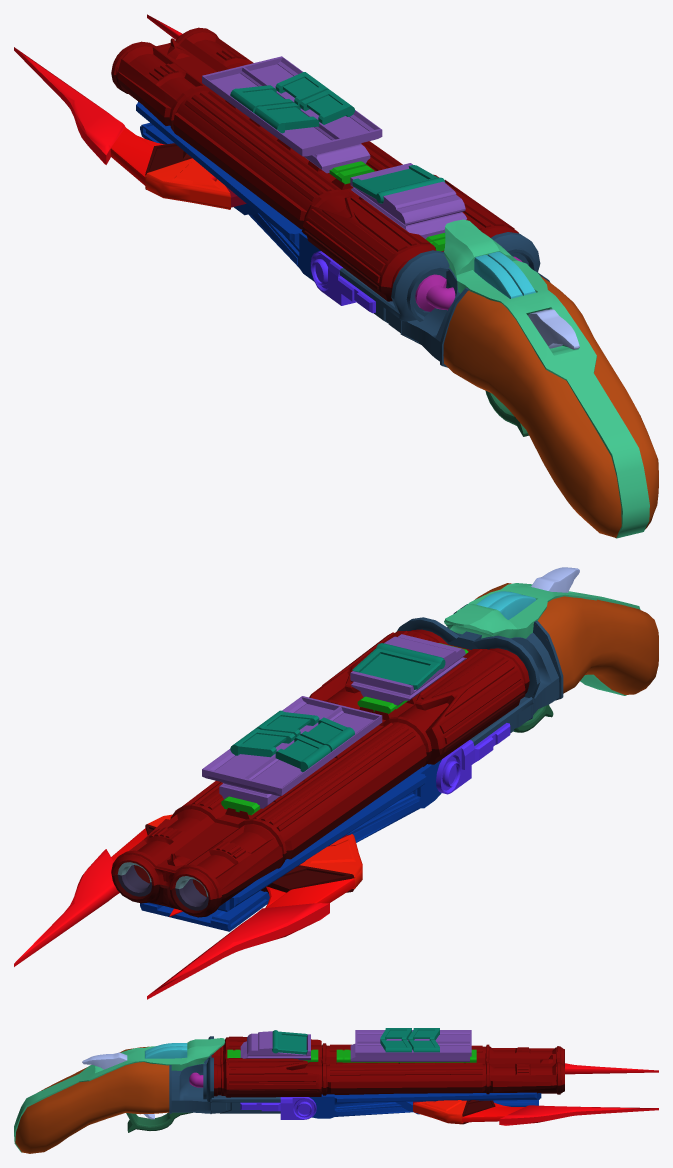
Rendered from ShotgunWithGrapple.fbx.
3 views of the same model, one above another, from view 1: azimuth 30°, elevation 25°; view 2: azimuth 150°, elevation 25°; view 3: azimuth 270°, elevation 25° (orthographic). The views are drawn at different scales.
Parts seen in each view (by area): view 1: Grip, Barrel, Grapple Hook, Grapple Launcher, Lever, Scope Amp L1, Scope Amp R2, Scope Amp L2, Scope Amp R1, Scope, Scope Visor; view 2: Barrel, Grip, Grapple Launcher, Grapple Hook, Scope, Scope Amp R1, Scope Visor, Scope Amp L2, Scope Amp L1, Scope Amp R2, Lever; view 3: Barrel, Grip, Grapple Launcher, Grapple Hook, Lever, Scope, Scope Amp R2, Scope Amp R1, Scope Visor, Scope Amp L2, Scope Amp L1.
Boxes of the visible parts, x1,y1,x2,y2 form: Grip: [310, 219, 658, 538]; Barrel: [111, 27, 518, 288]; Grapple Hook: [14, 14, 246, 209]; Grapple Launcher: [111, 73, 392, 301]; Lever: [528, 309, 579, 349]; Scope Amp L1: [254, 103, 319, 133]; Scope Amp R2: [299, 89, 354, 124]; Scope Amp L2: [230, 85, 294, 113]; Scope Amp R1: [275, 72, 328, 105]; Scope: [352, 165, 445, 203]; Scope Visor: [362, 168, 427, 190]; Barrel: [111, 629, 529, 899]; Grip: [396, 583, 658, 794]; Grapple Launcher: [111, 681, 529, 931]; Grapple Hook: [14, 814, 362, 999]; Scope: [352, 643, 445, 689]; Scope Amp R1: [230, 728, 295, 757]; Scope Visor: [360, 654, 428, 684]; Scope Amp L2: [275, 735, 330, 771]; Scope Amp L1: [300, 717, 354, 751]; Scope Amp R2: [256, 710, 319, 737]; Lever: [531, 567, 579, 592]; Barrel: [211, 1030, 564, 1089]; Grip: [14, 1036, 316, 1153]; Grapple Launcher: [214, 1057, 564, 1118]; Grapple Hook: [413, 1063, 658, 1125]; Lever: [82, 1052, 127, 1069]; Scope: [272, 1030, 307, 1054]; Scope Amp R2: [380, 1039, 411, 1052]; Scope Amp R1: [408, 1039, 439, 1052]; Scope Visor: [281, 1035, 306, 1049]; Scope Amp L2: [408, 1028, 439, 1040]; Scope Amp L1: [380, 1028, 411, 1039].
Bounding box in the file's own units: 13.42 × 11.07 × 57.79.
